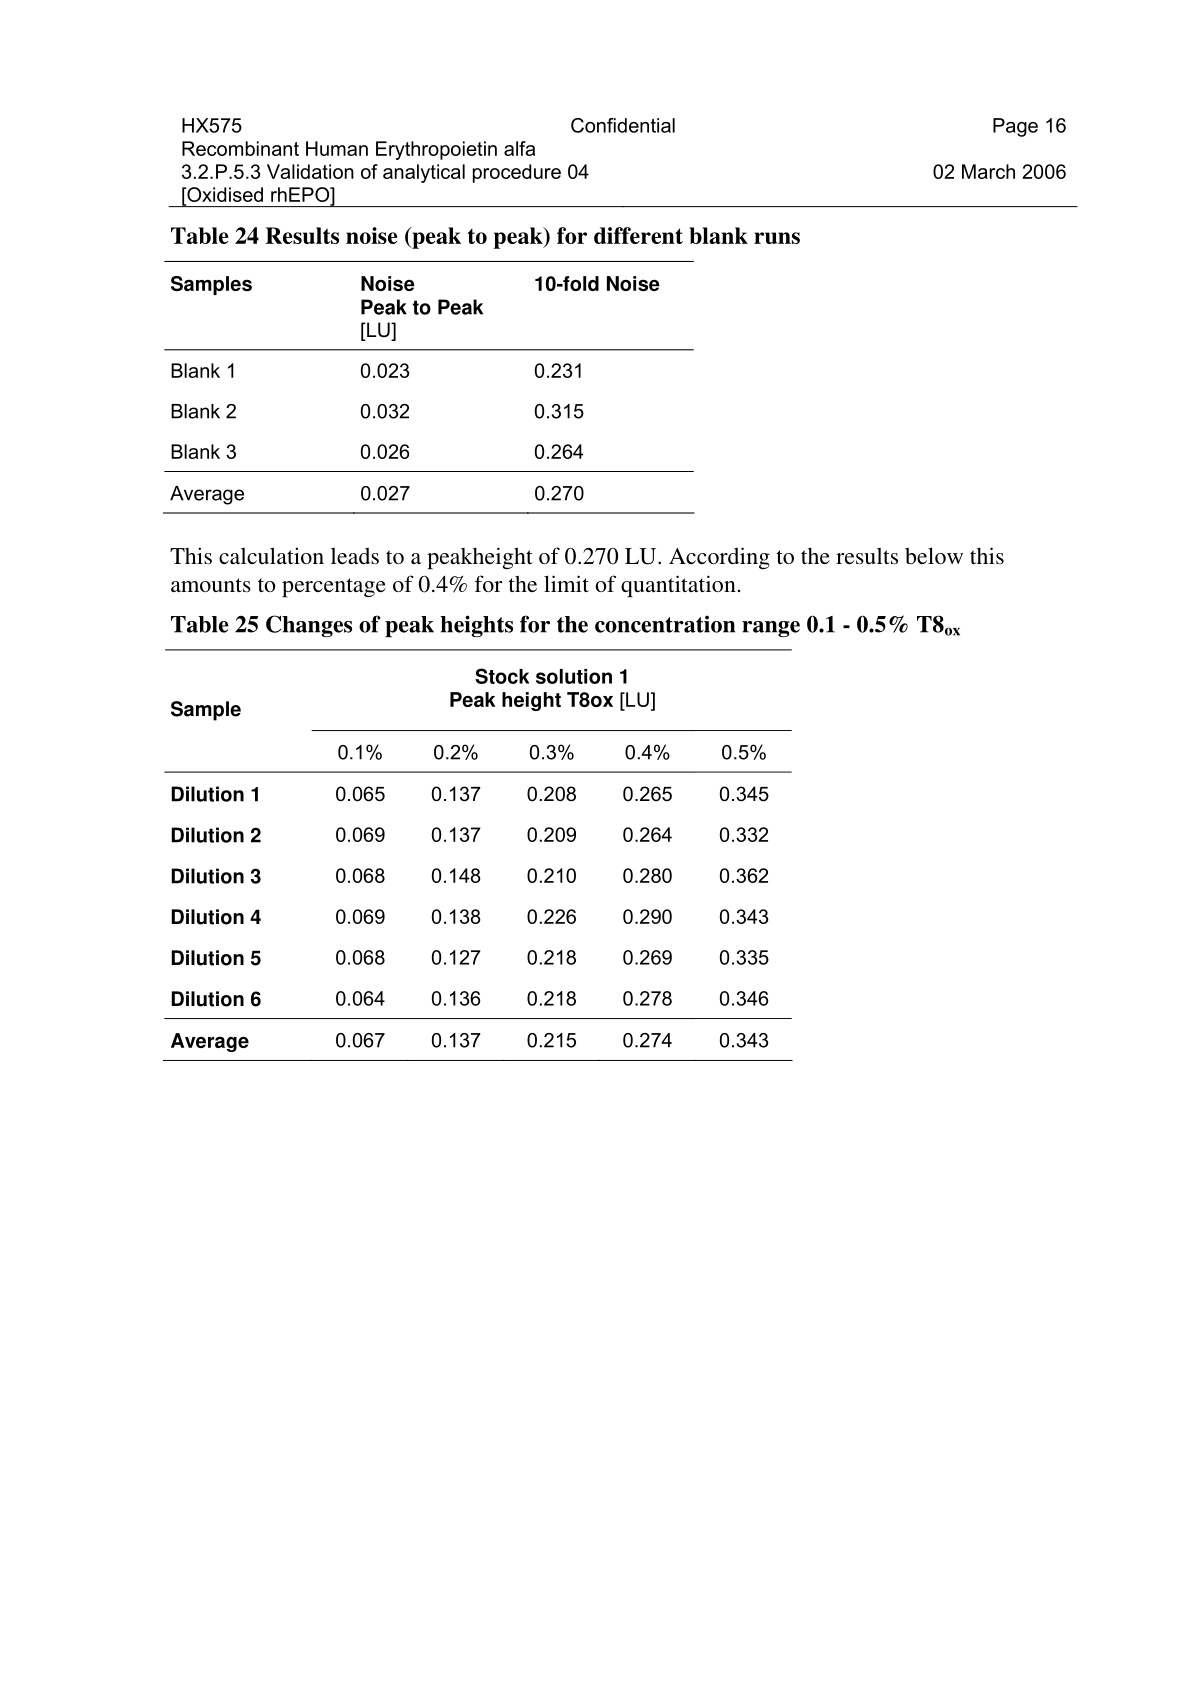partial_lined: (164, 727, 793, 1063), (165, 259, 695, 515)
